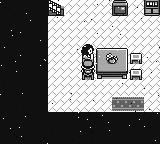leer: (112, 0, 129, 16)
main: (81, 59, 95, 77)
no-caminable: (1, 1, 160, 143), (96, 49, 128, 79), (144, 0, 160, 16)
npc: (81, 44, 94, 60)
puerta: (110, 94, 148, 112), (48, 1, 64, 16)
